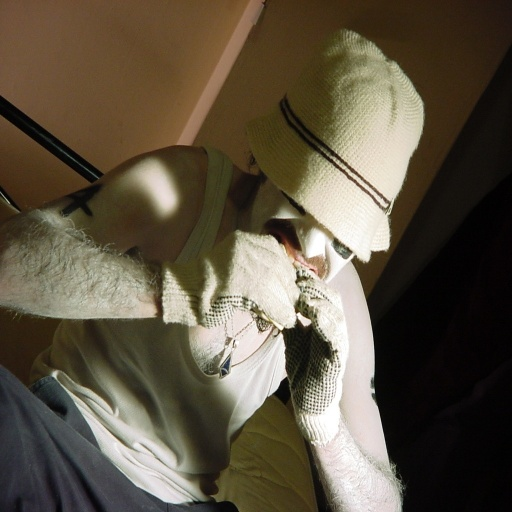hand: (280, 259, 349, 433), (197, 233, 301, 328)
